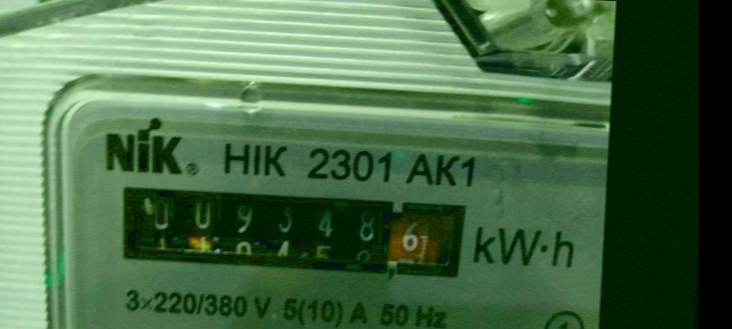0: (190, 195, 212, 232), (149, 195, 170, 231)
3: (272, 200, 295, 233)
4: (311, 202, 334, 240)
6: (398, 217, 422, 252)
8: (354, 206, 376, 241)
9: (233, 198, 252, 233)
screen: (94, 170, 484, 292)
